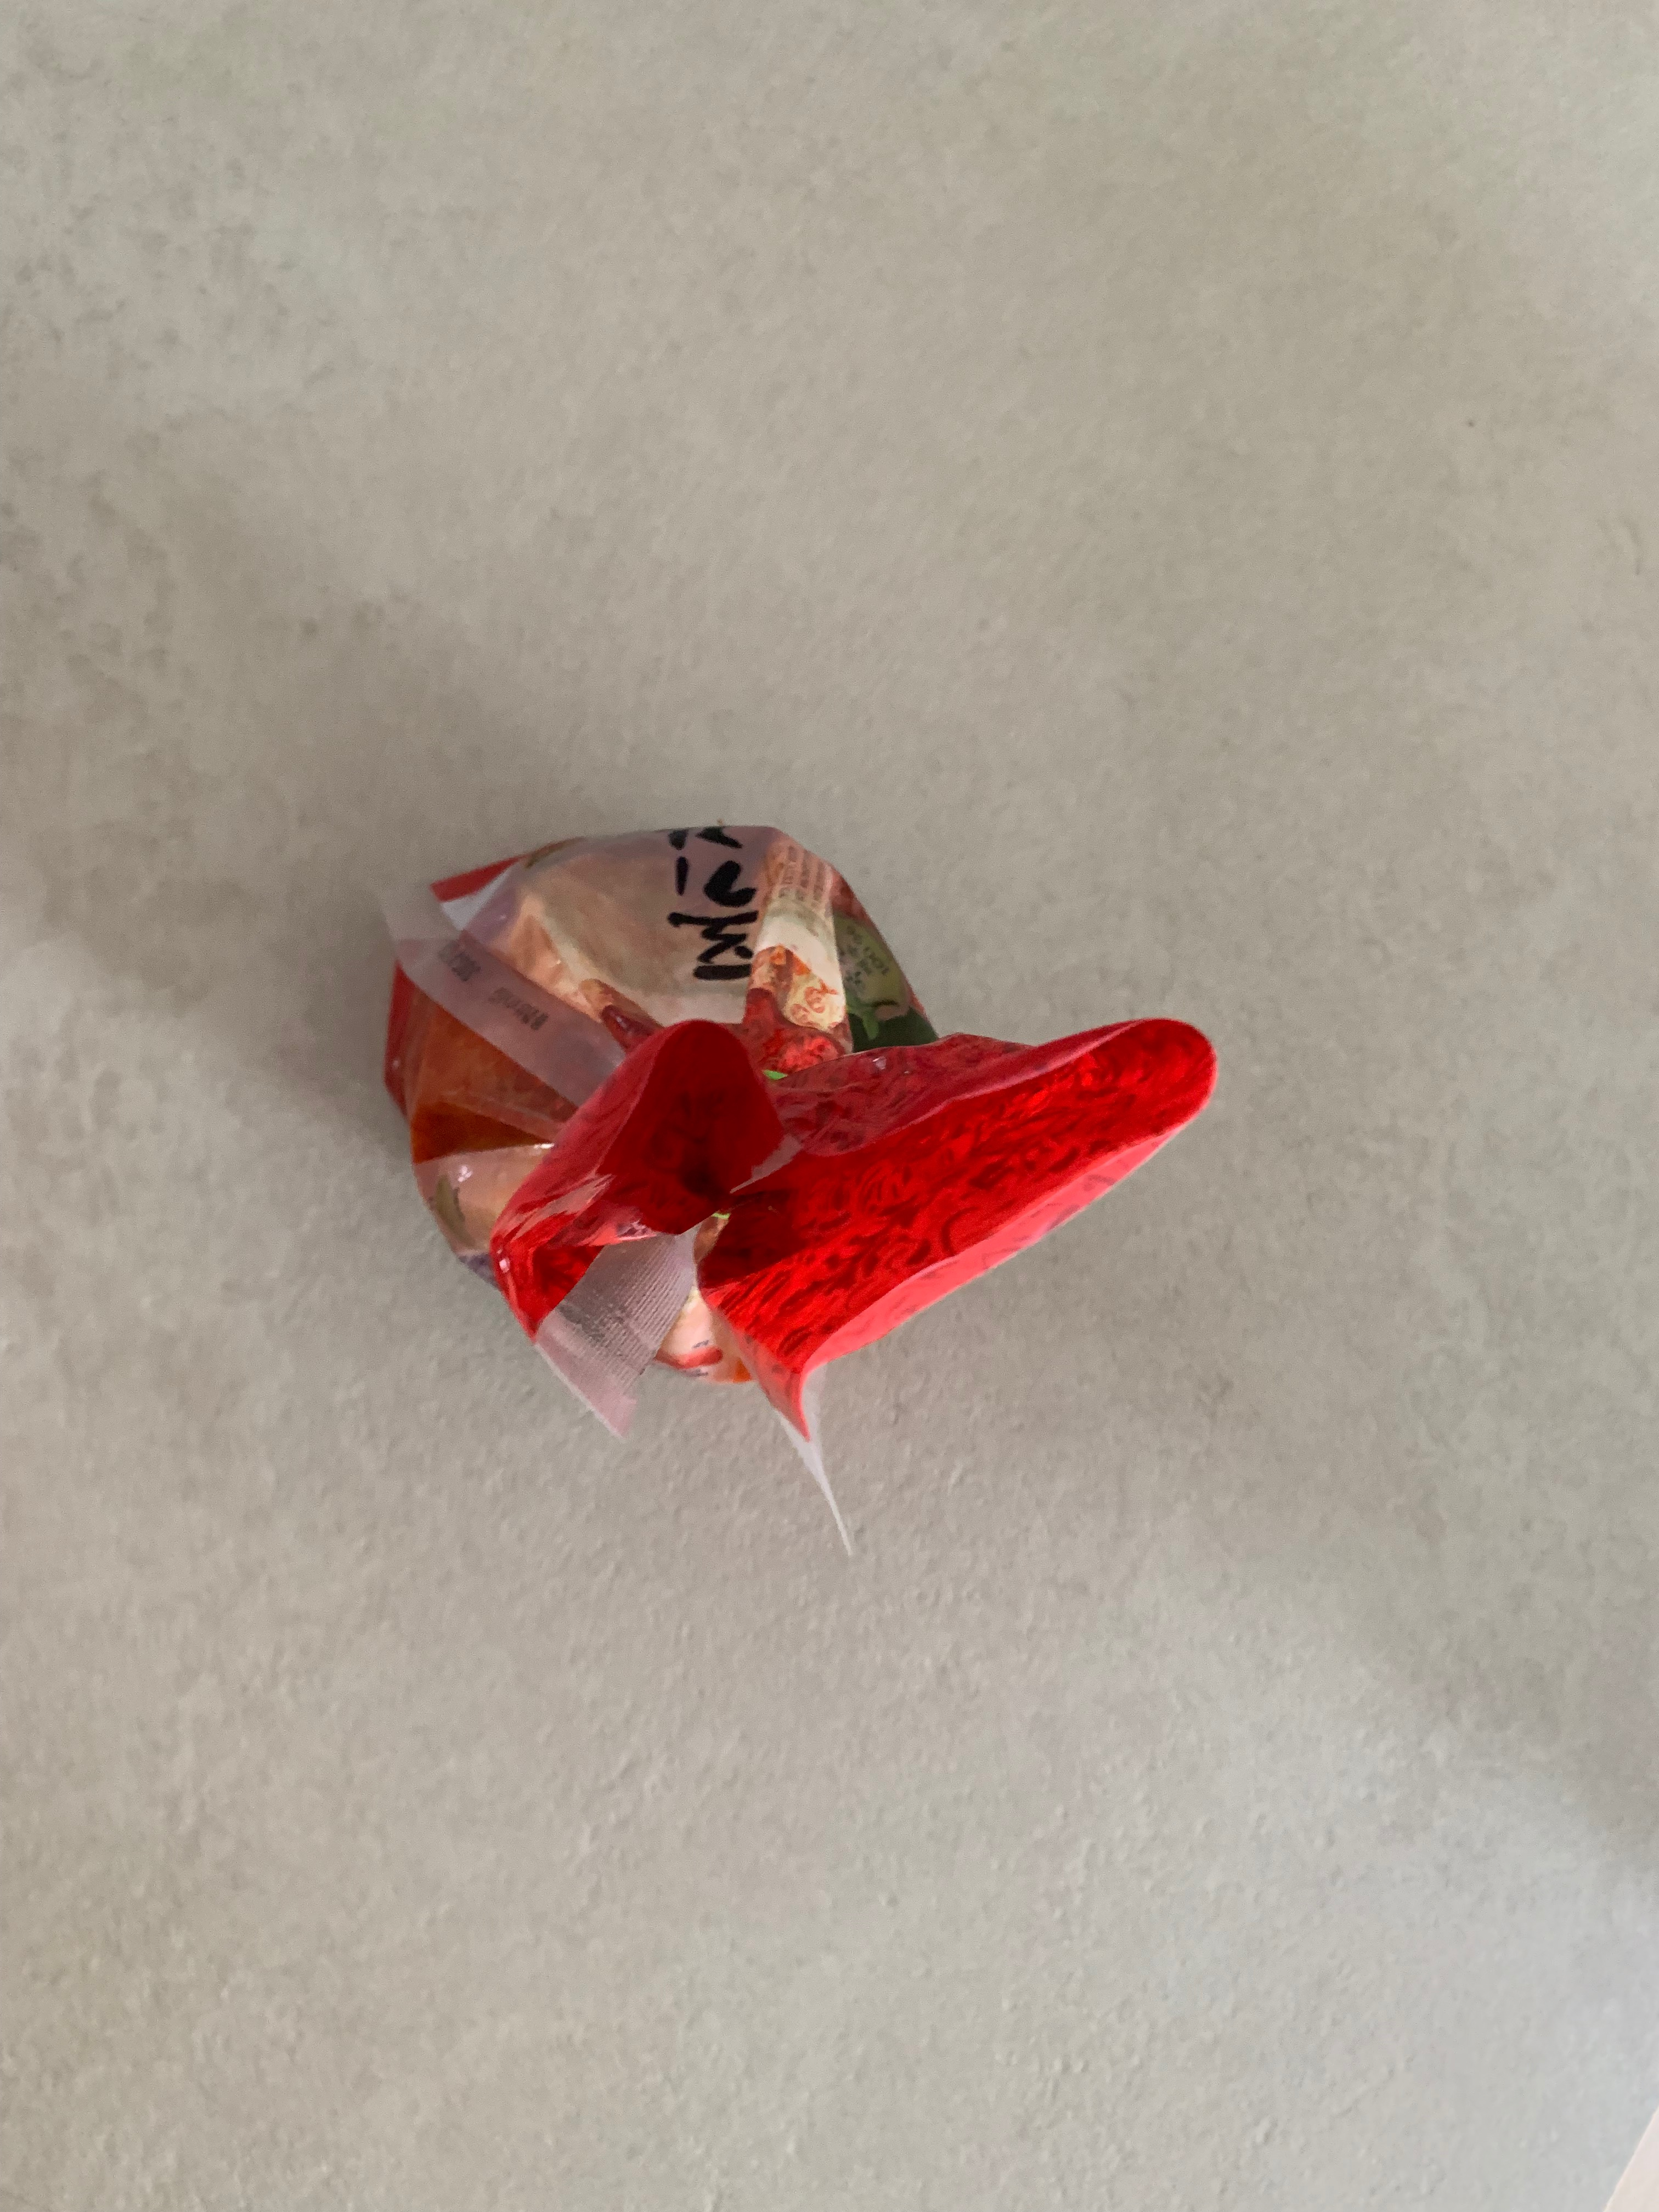kimchi: (382, 824, 1220, 1430)
